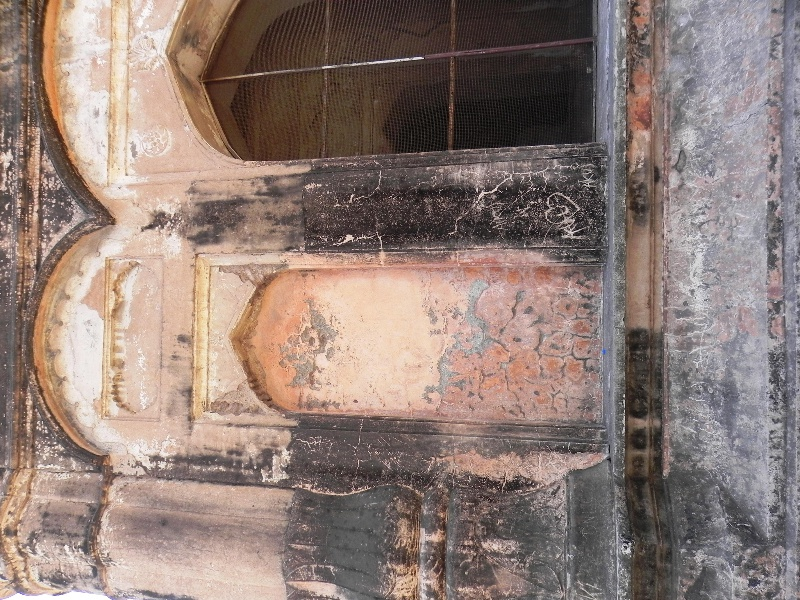Spalling: (455, 275, 495, 369)
